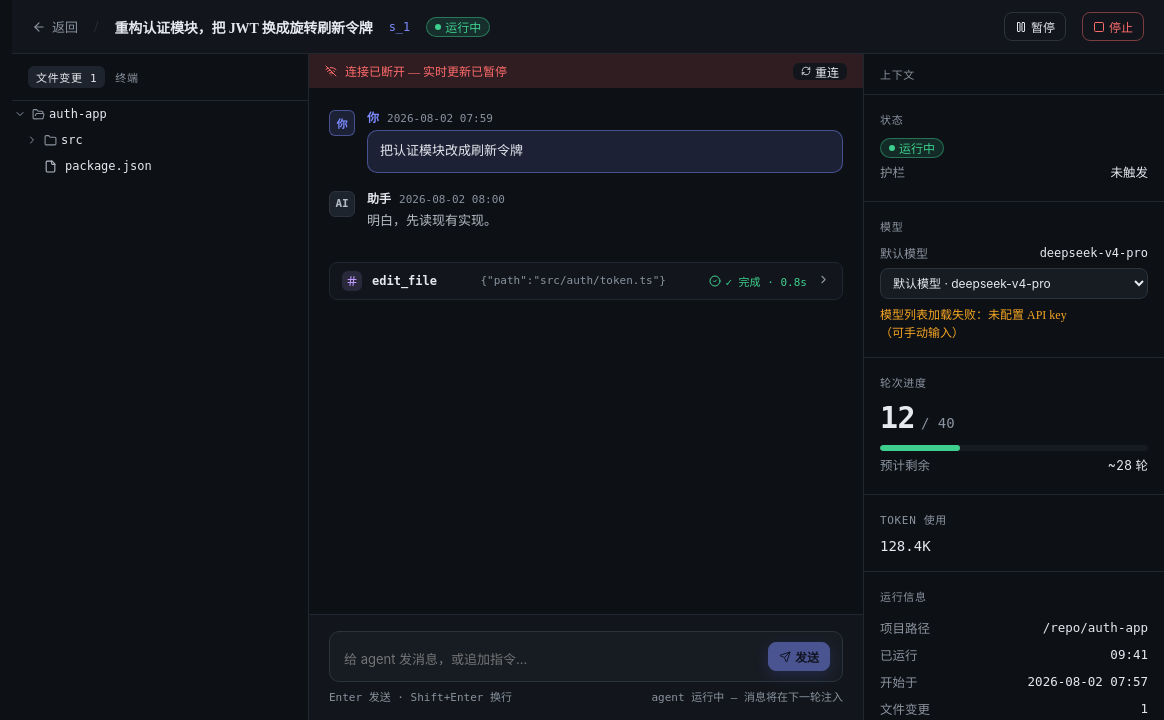
Test: SessionDetail › sends a composer message, appends it locally and dedupes the WS broadcast
Check: the text "把认证模块改成刷新令牌" is shown, box [367, 130, 843, 173]
Type "再跑一次测试" into the text box named "消息输入".
click(550, 659); type("再跑一次测试")  # box [342, 648, 758, 671]
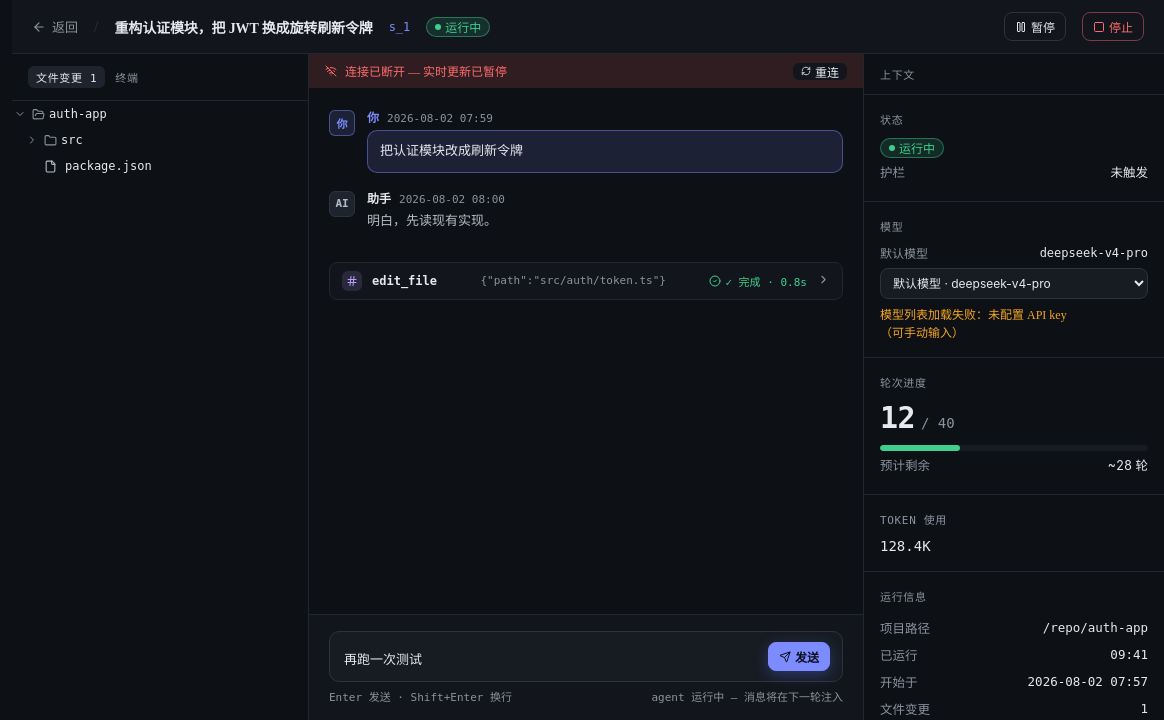
Click the button "发送".
click(799, 656)  # box [768, 642, 830, 671]
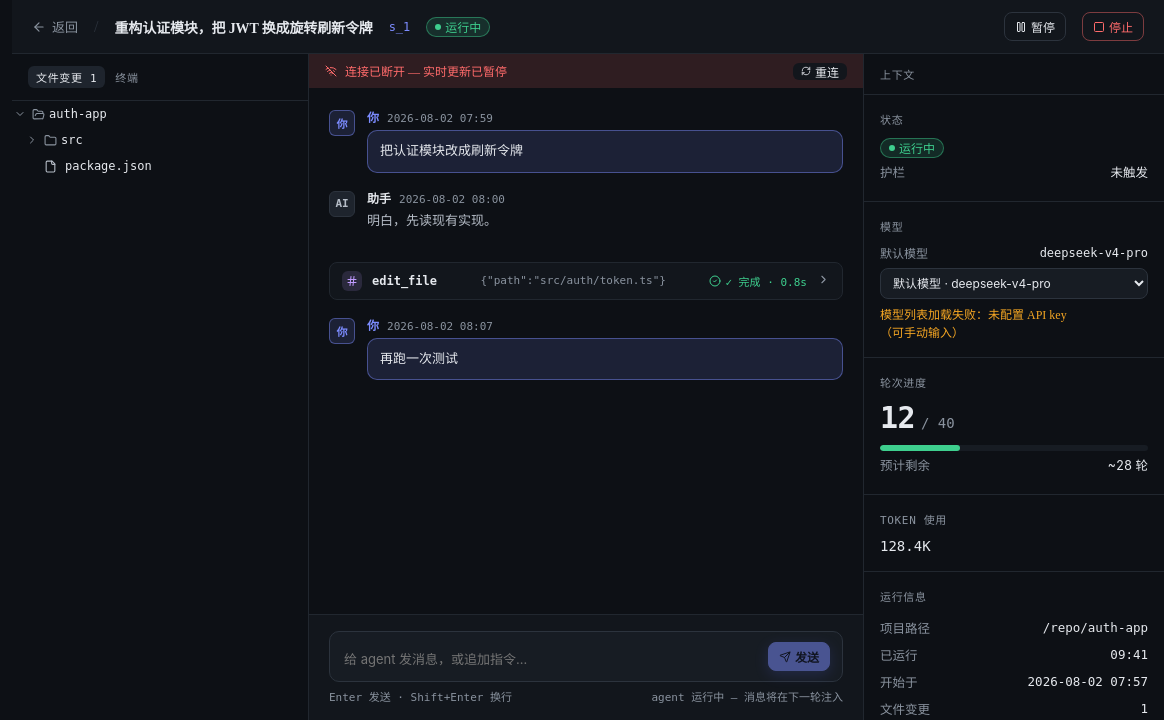
Check: the text "再跑一次测试" is shown once, box [367, 338, 843, 380]
